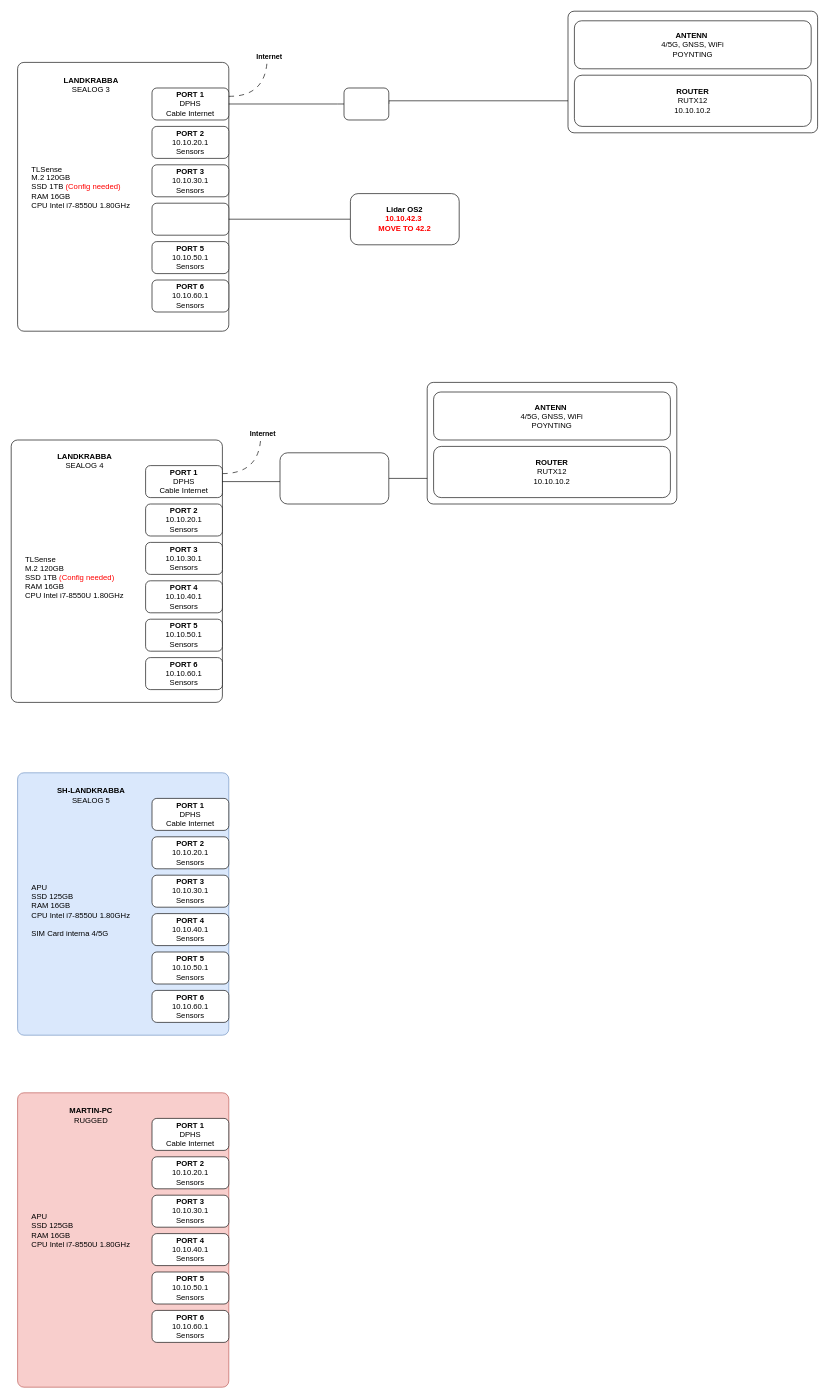
This 829x1398 diagram has some shape labels left out. Here are the shapes that lost their labels. From the top down, the centre of each, then its label:
point 366,103: Passive PoE Injector
point 190,219: PORT 4 10.10.42.1 Sensors
point 334,478: PoE Switch
